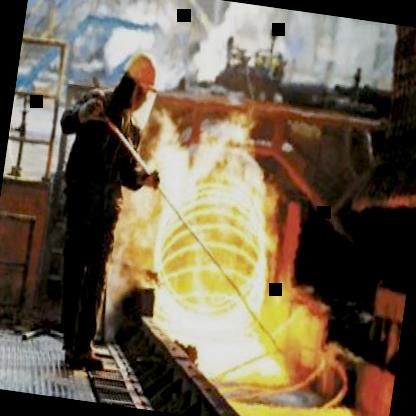helmet: (117, 44, 164, 111)
